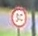limite 30: (9, 5, 29, 28)
